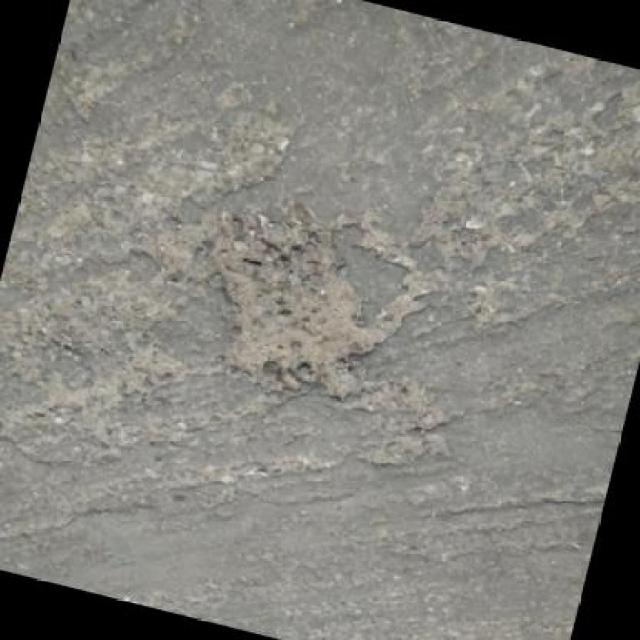pothole1: (181, 200, 419, 422)
